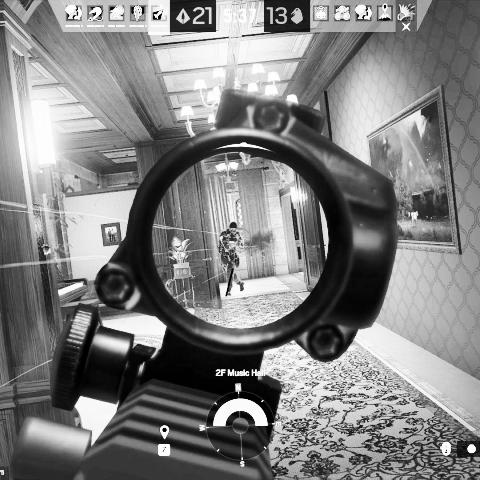Character: (217, 220, 247, 298)
Head: (228, 221, 238, 233)
